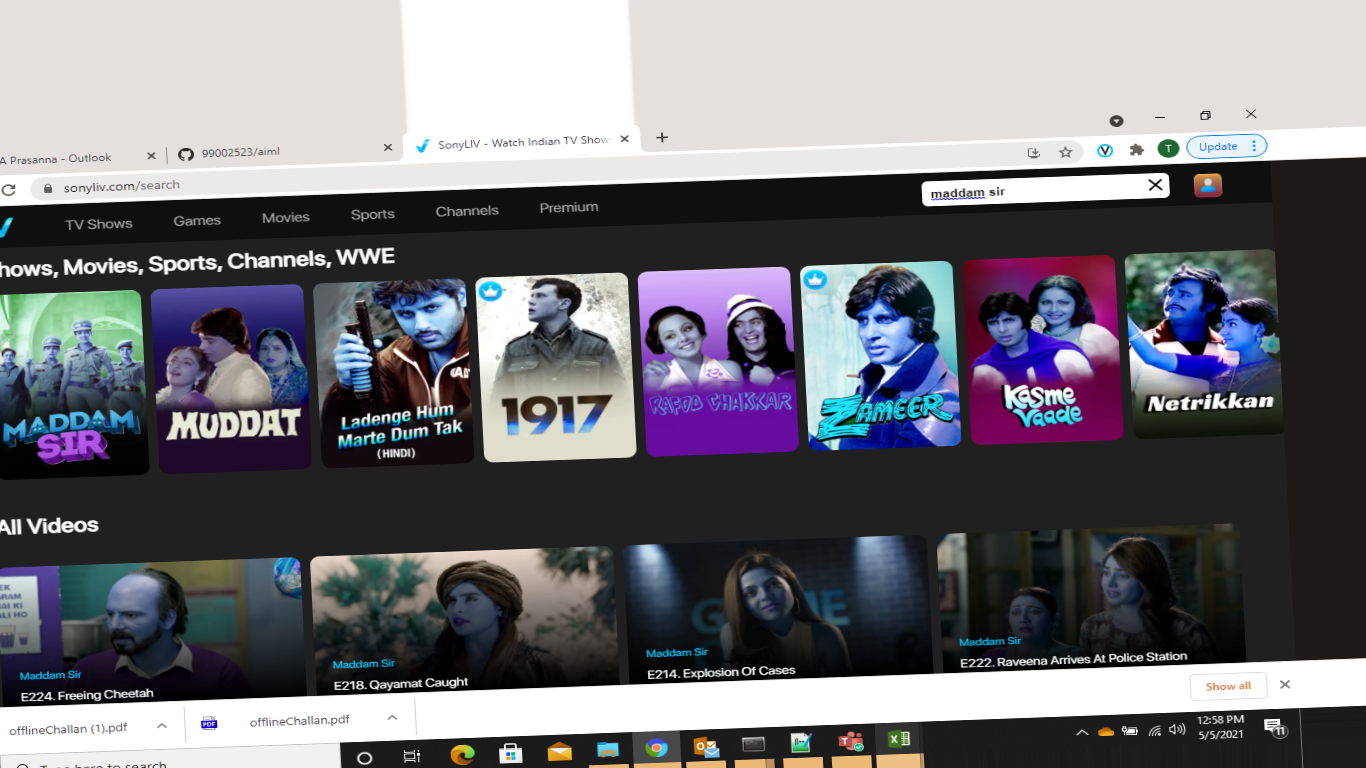profileicon: (1186, 163, 1231, 207)
resultsfound: (1, 238, 426, 295)
searchtextbox: (909, 168, 1177, 211)
